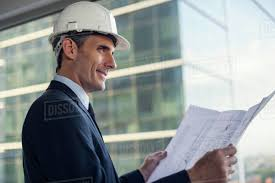Person_wearing_helmet: (47, 1, 129, 62)
